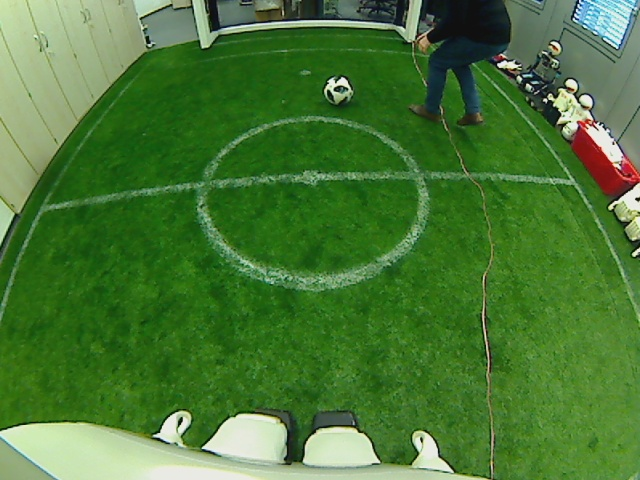ball: (322, 73, 354, 106)
